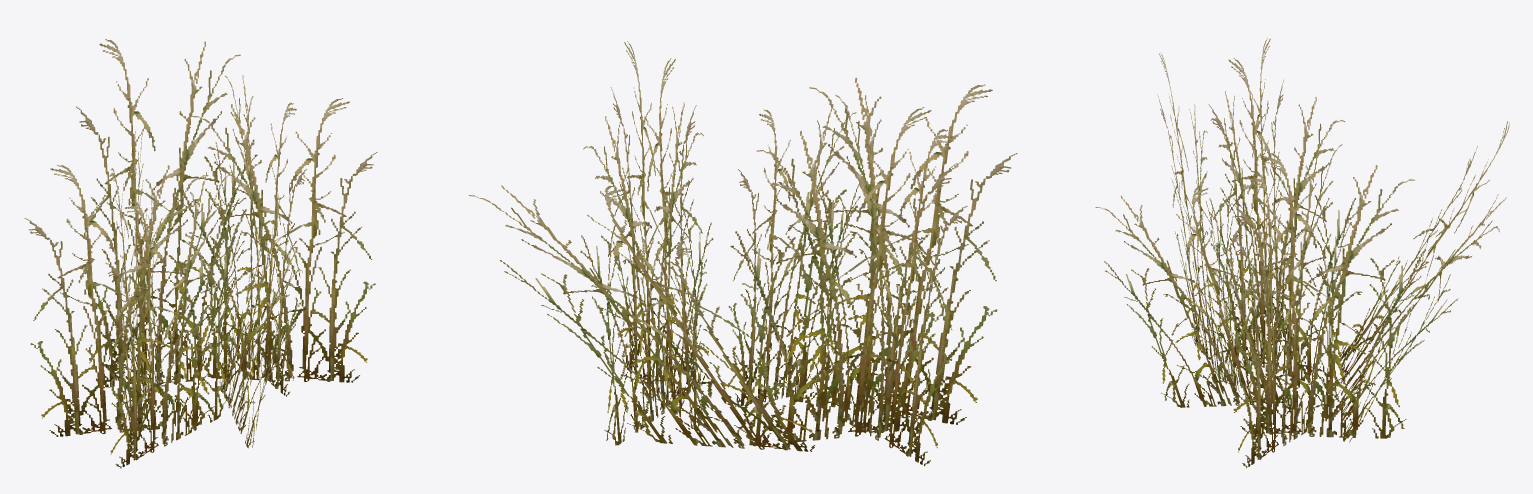
File: weed_mid_lod1.glb
3 views of the same model, side by side, from view 1: azimuth 30°, elevation 25°; view 2: azimuth 150°, elevation 25°; view 3: azimuth 270°, elevation 25° (orthographic). The views are drawn at different scales.
Visible parts, largest first — view 1: weed_mid_lod1; view 2: weed_mid_lod1; view 3: weed_mid_lod1.
Boxes of the visible parts, left/top/right/bottom form: weed_mid_lod1: left=24, top=39, right=377, bottom=468; weed_mid_lod1: left=468, top=41, right=1017, bottom=466; weed_mid_lod1: left=1095, top=38, right=1509, bottom=468.
Size of the model in its own units: 4.44 by 3.58 by 4.63.
1 material, 1 textured.
